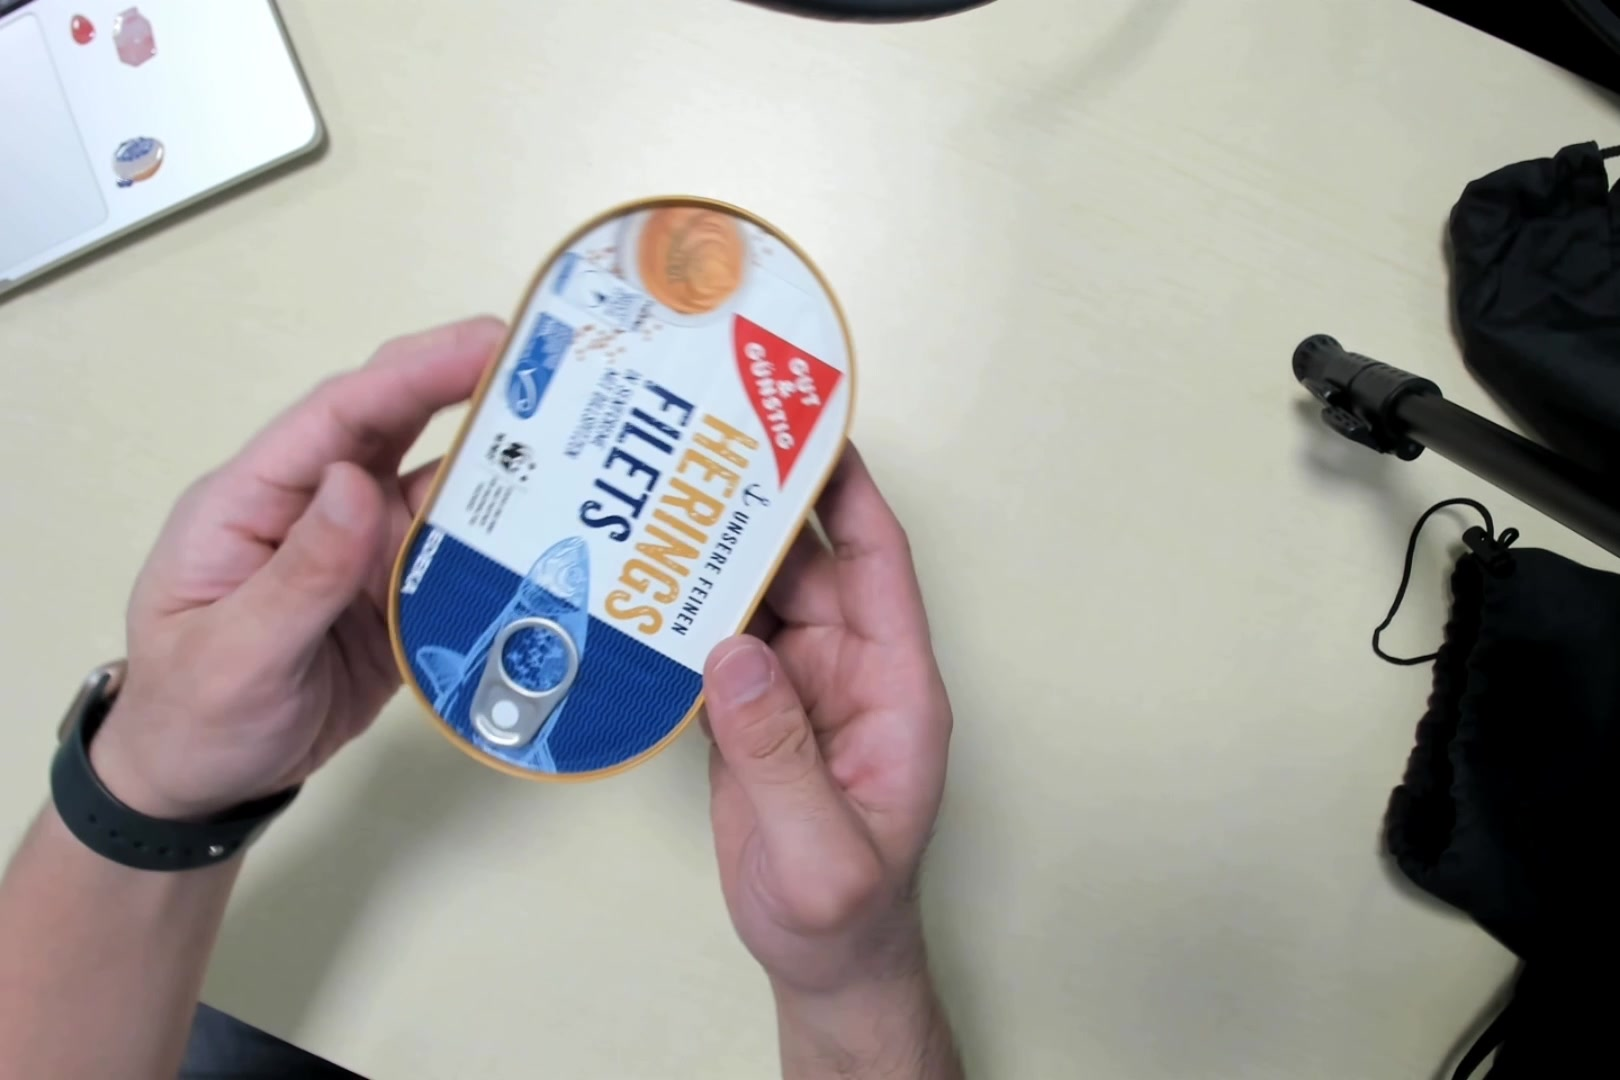OtherCannedSeafood_100-199g_Halal_NonHealthy: (397, 184, 846, 783)
